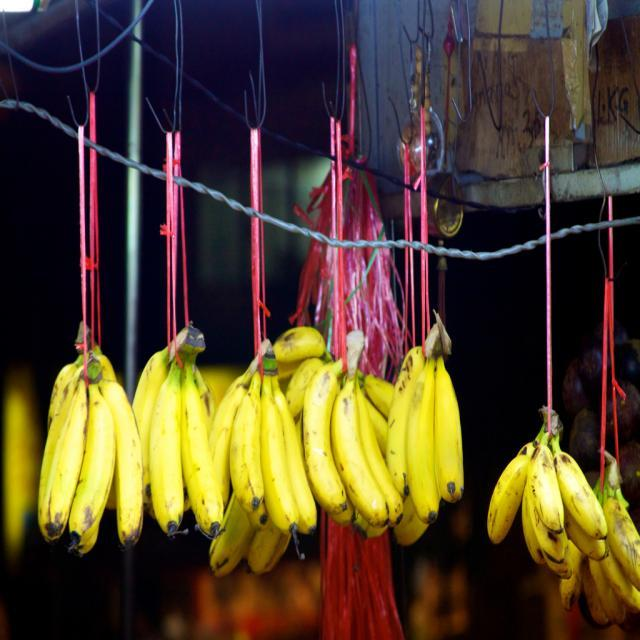Banana: (39, 319, 640, 627)
